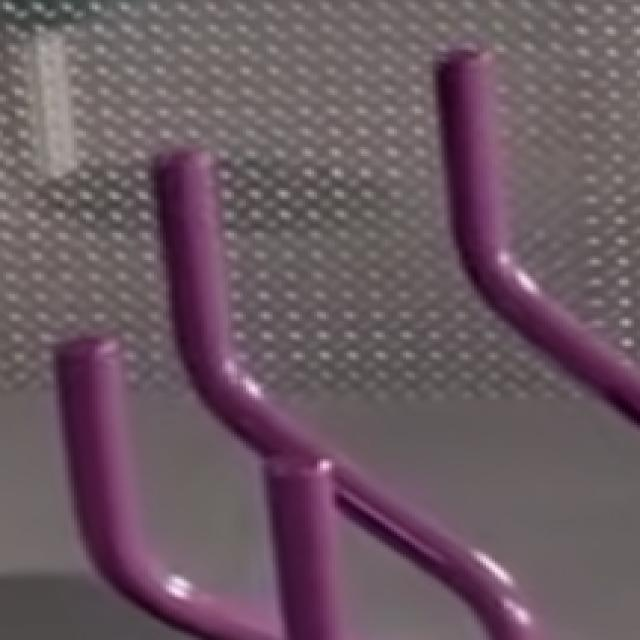Reef: (56, 338, 132, 592), (434, 49, 503, 296), (155, 150, 220, 396), (266, 458, 334, 640)
